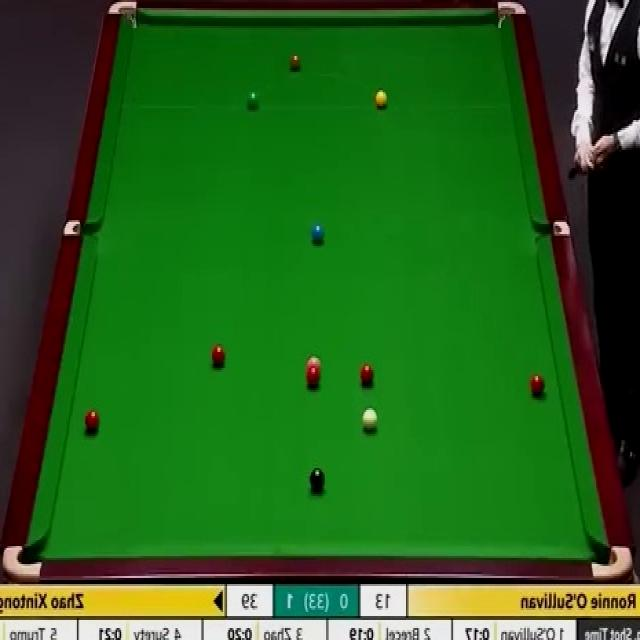black-ball: (309, 466, 325, 492)
blue-ball: (310, 222, 325, 244)
brown-ball: (289, 52, 302, 72)
green-ball: (247, 89, 260, 110)
pink-ball: (306, 356, 322, 370)
red-ball: (529, 372, 545, 398), (83, 411, 100, 433), (305, 367, 322, 388), (360, 364, 375, 386), (212, 345, 226, 368)
white-ball: (361, 407, 379, 432)
yellow-ball: (375, 89, 388, 108)
